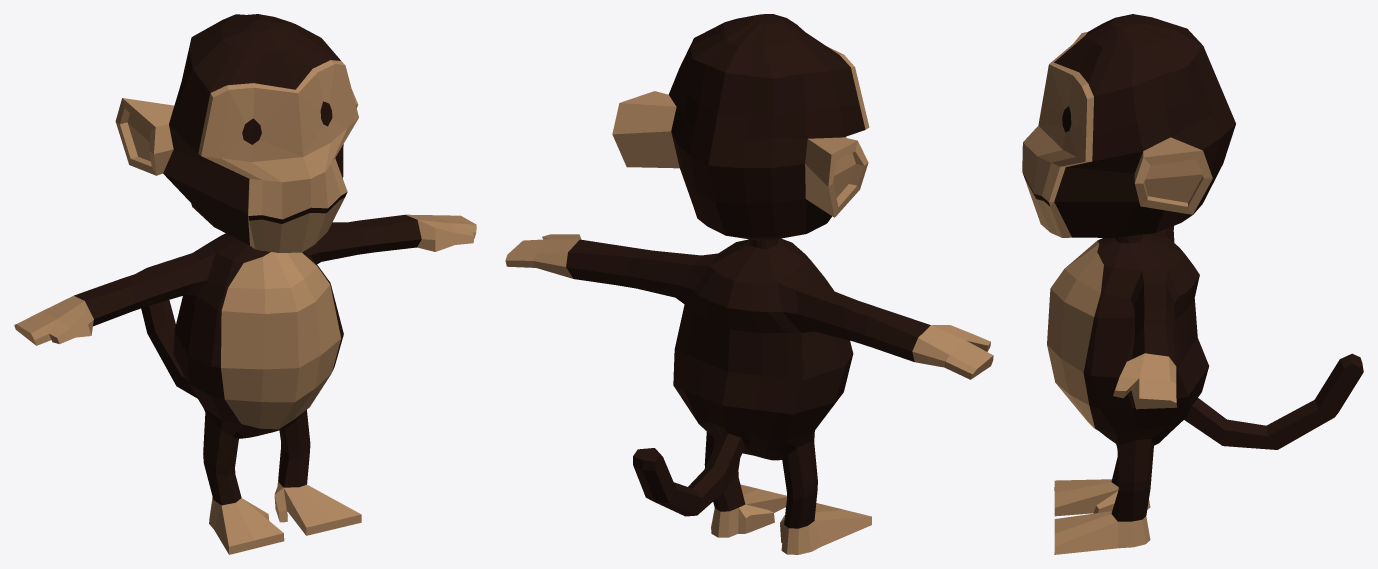
Rendered from mono.obj.
3 renders of one model, left to right at view 1: azimuth 30°, elevation 25°; view 2: azimuth 150°, elevation 25°; view 3: azimuth 270°, elevation 25°, orthographic. The views are drawn at different scales.
Visible parts, largest first — view 1: Cube; view 2: Cube; view 3: Cube.
Part boxes in pixels (bbox=[...]): Cube: bbox=[14, 14, 476, 554]; Cube: bbox=[505, 14, 993, 554]; Cube: bbox=[1022, 14, 1363, 554].
Bounding box in the file's own units: 1.93 × 2.03 × 1.26.
